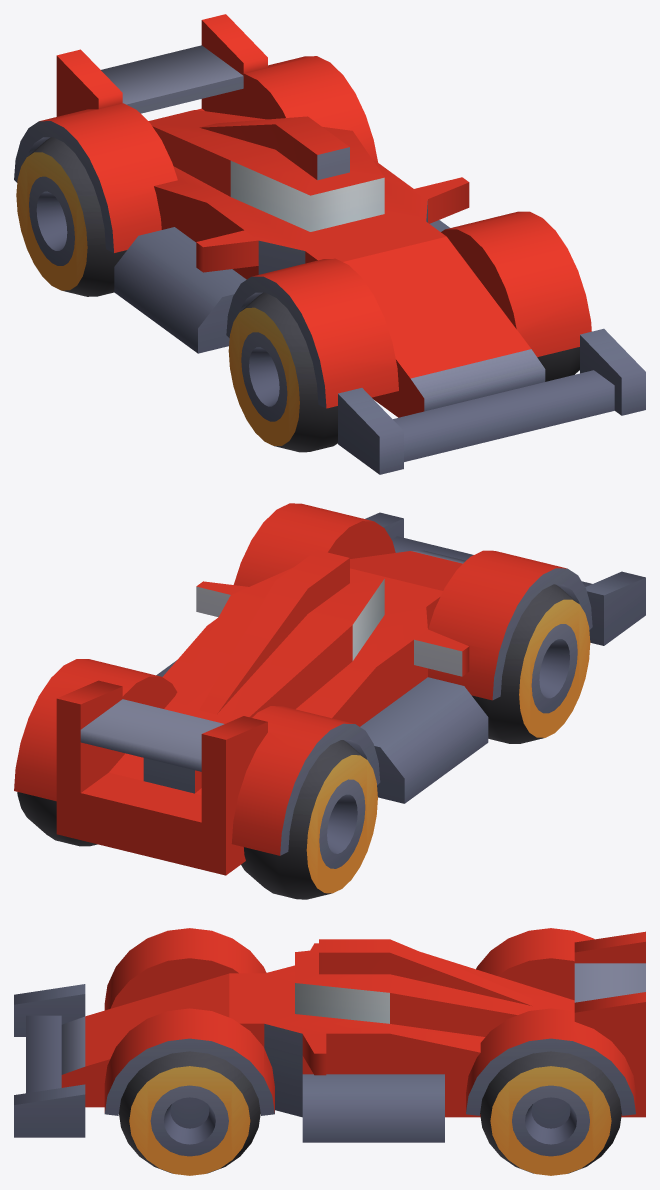
File: race-future1.glb
3 renders of one model, top to bottom at view 1: azimuth 30°, elevation 25°; view 2: azimuth 150°, elevation 25°; view 3: azimuth 270°, elevation 25°, orthographic. The views are drawn at different scales.
Parts seen in each view (by area): view 1: body.001, body, wheel-front-right, wheel-back-right, wheel-front-left; view 2: body.001, body, wheel-back-right, wheel-front-right, wheel-back-left; view 3: body.001, body, wheel-back-left, wheel-front-left.
Part boxes in pixels (bbox=[...]): body.001: bbox=[39, 14, 591, 417]; body: bbox=[14, 45, 645, 474]; wheel-front-right: bbox=[228, 292, 337, 452]; wheel-back-right: bbox=[16, 137, 126, 296]; wheel-front-left: bbox=[537, 347, 579, 381]; body.001: bbox=[14, 503, 566, 875]; body: bbox=[80, 512, 645, 855]; wheel-back-right: bbox=[241, 740, 377, 899]; wheel-front-right: bbox=[472, 584, 590, 743]; wheel-back-left: bbox=[17, 792, 97, 846]; body.001: bbox=[61, 928, 645, 1117]; body: bbox=[14, 963, 645, 1142]; wheel-back-left: bbox=[480, 1051, 621, 1175]; wheel-front-left: bbox=[119, 1051, 260, 1175].
Size of the model in its own units: 1.2 by 0.8325 by 2.66.
Materials: 2 (1 with a texture image).
